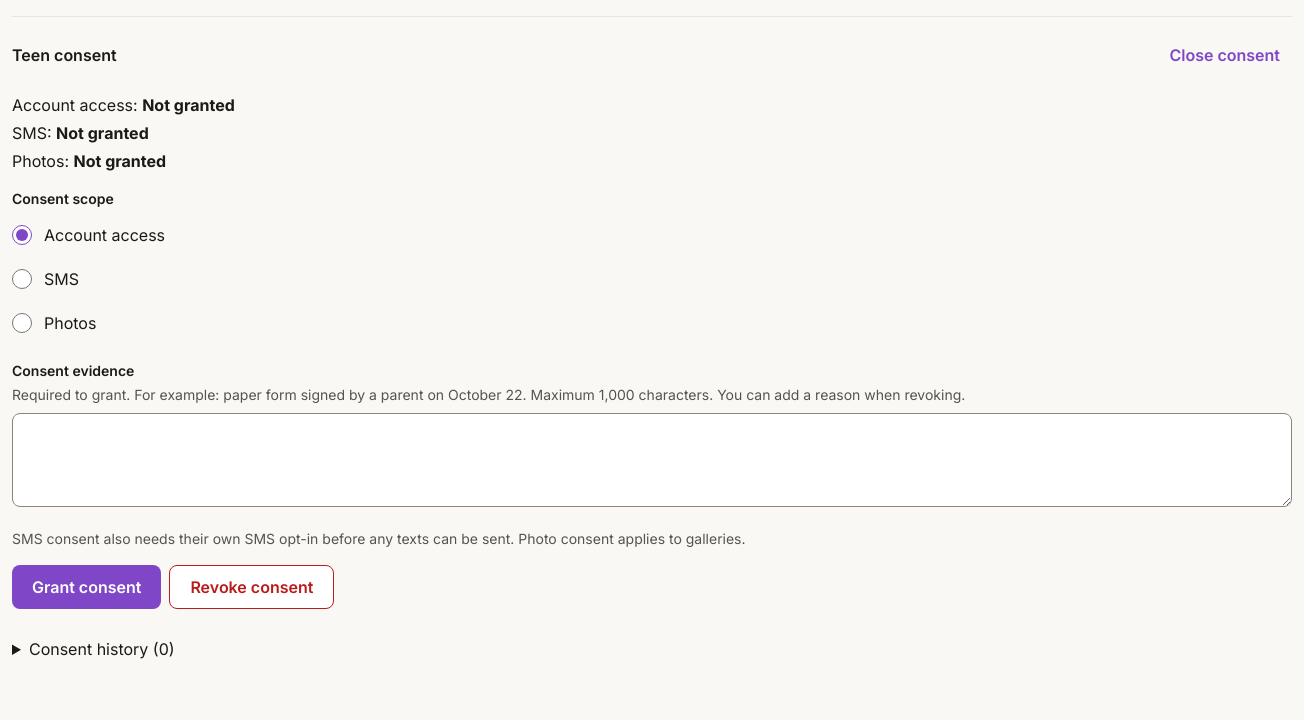
Scenario: confirms account revocation and preserves evidence after an API error
The image size is (1304, 720).
Step 1. Click the button "Revoke consent" → [252, 587], box left=169, top=565, right=334, bottom=609
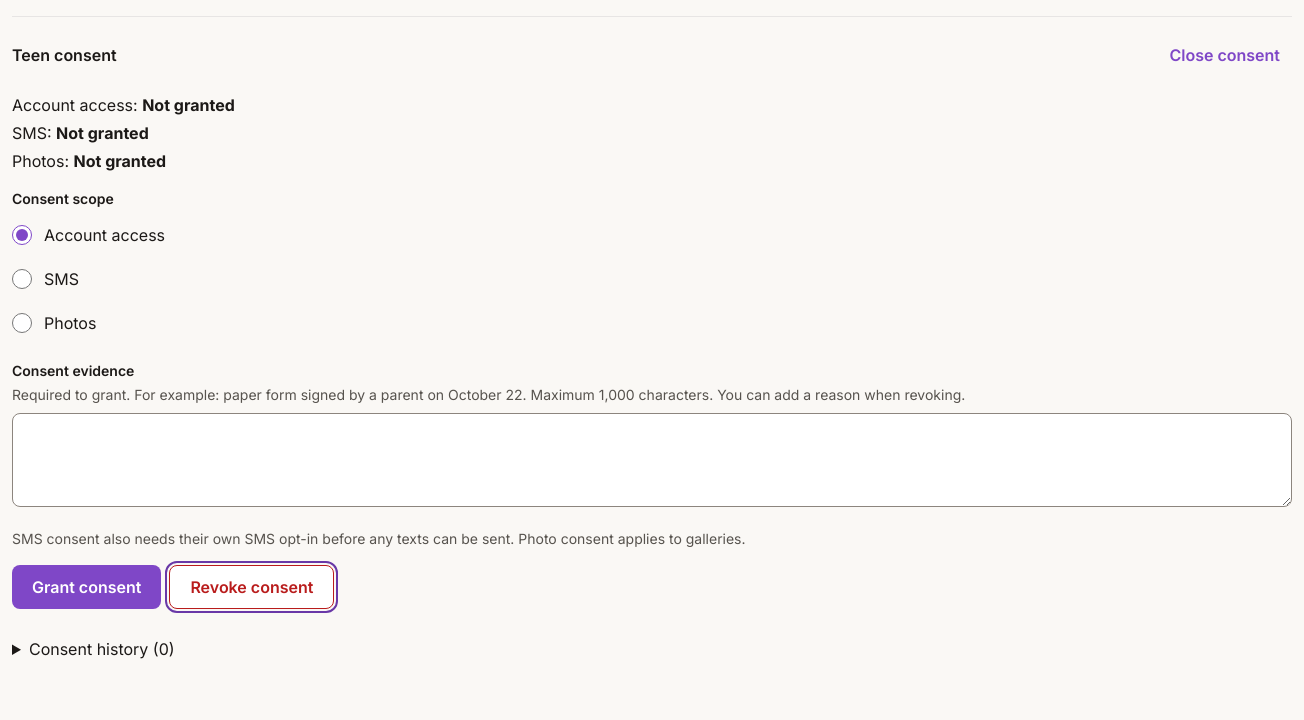
Step 2. Type "Parent withdrew consent" into the text box labelled "Consent evidence" → [652, 460], box left=12, top=413, right=1292, bottom=507
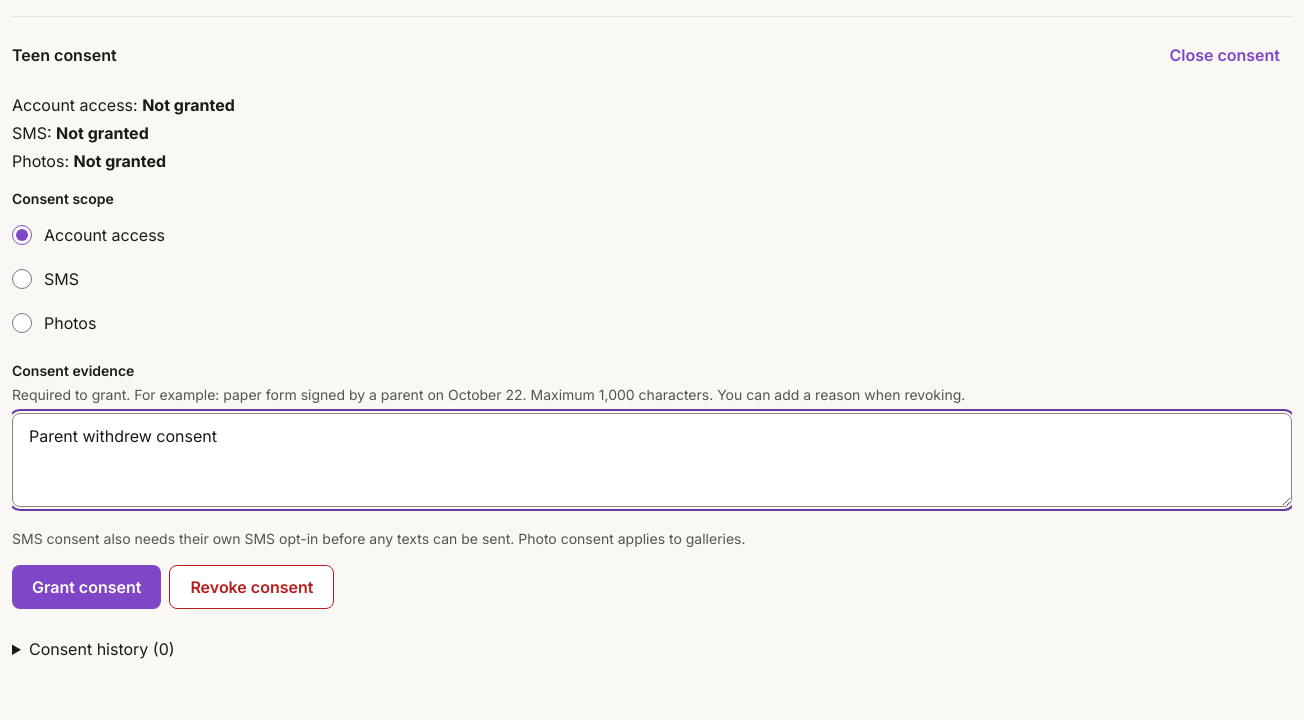
Step 3. Click the button "Revoke consent" → [252, 587], box left=169, top=565, right=334, bottom=609
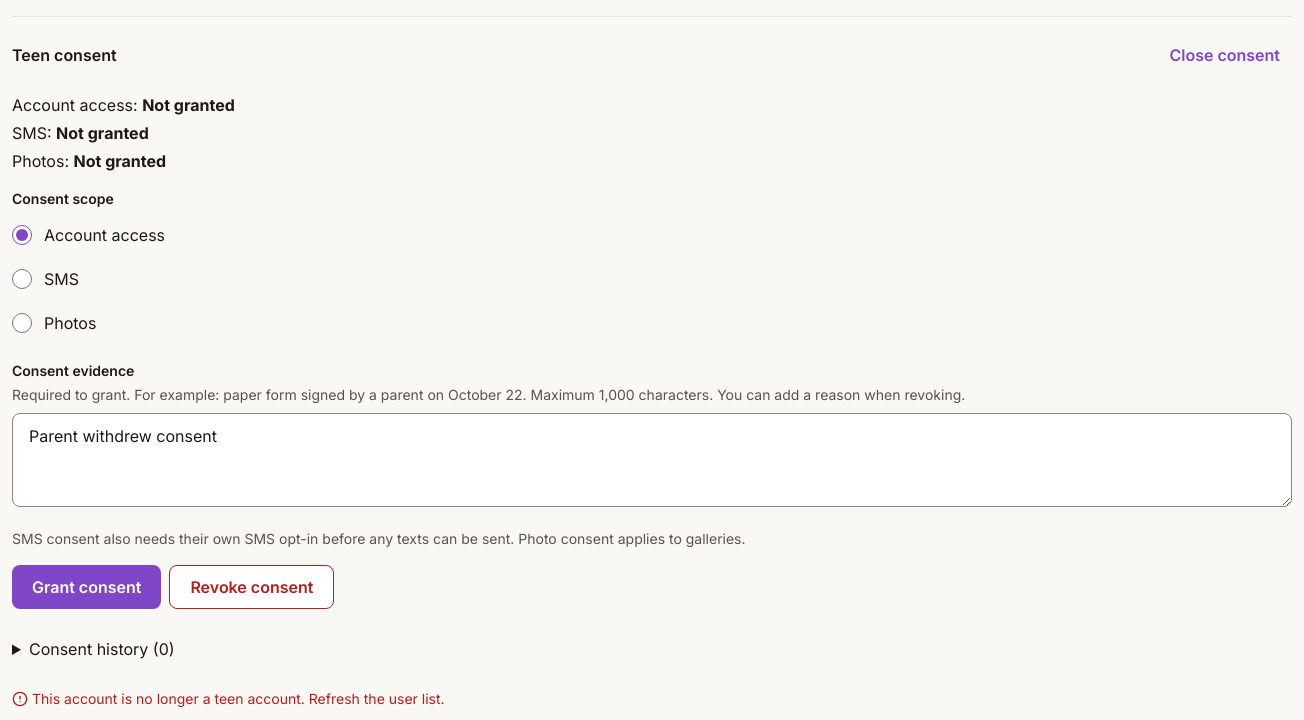
Check: the message reads "This account is no longer a teen account. Refresh the user list.", box left=32, top=690, right=445, bottom=707
